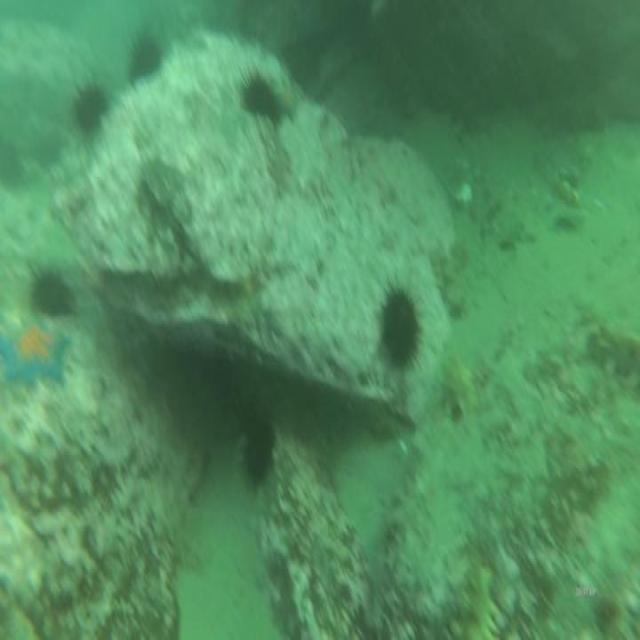echinus: (379, 284, 421, 374), (28, 259, 76, 321), (240, 408, 276, 485), (239, 66, 281, 126), (72, 80, 109, 136), (125, 28, 162, 84)
holothurian: (455, 543, 502, 640), (439, 348, 478, 420)
starfish: (0, 311, 73, 392)
